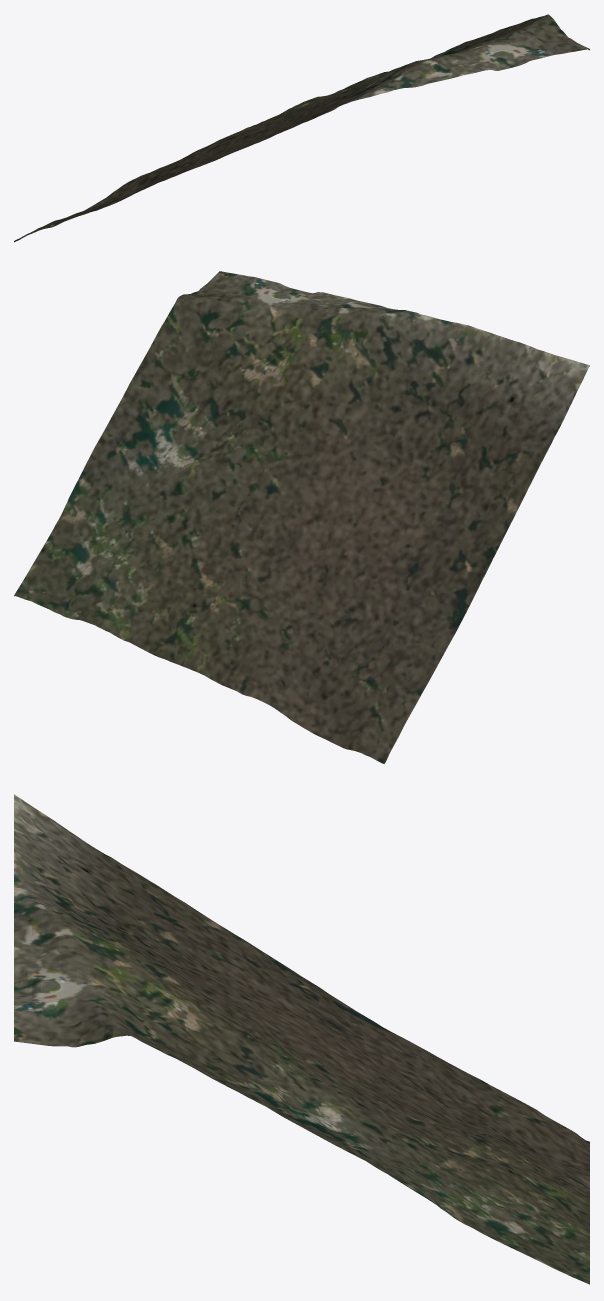
The picture shows the model from 3 angles, top to bottom: view 1: azimuth 30°, elevation 25°; view 2: azimuth 150°, elevation 25°; view 3: azimuth 270°, elevation 25°; orthographic projection. The views are drawn at different scales.
Bounding box in the file's own units: 250 × 170 × 241.
Materials: 1 (1 with a texture image).
